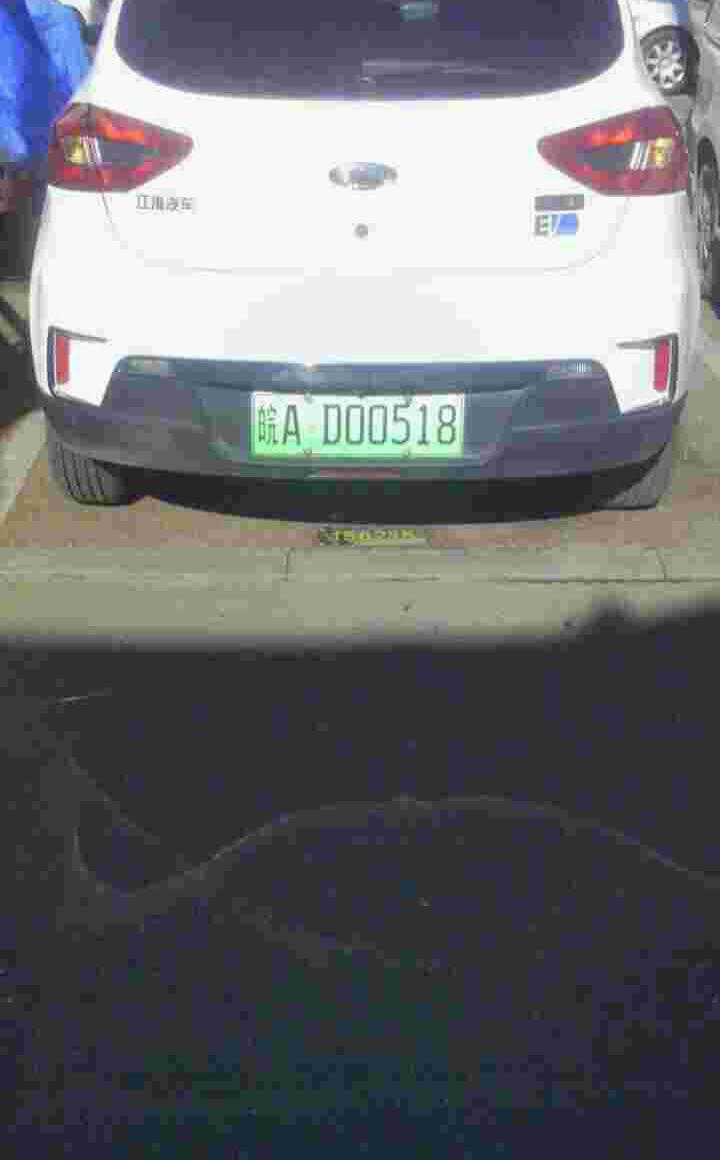car_green: (247, 384, 468, 456)
